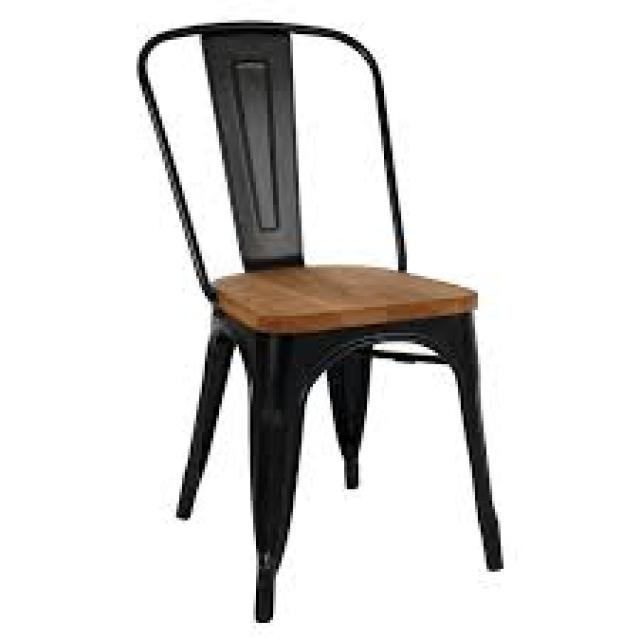bottle: (134, 19, 521, 619)
